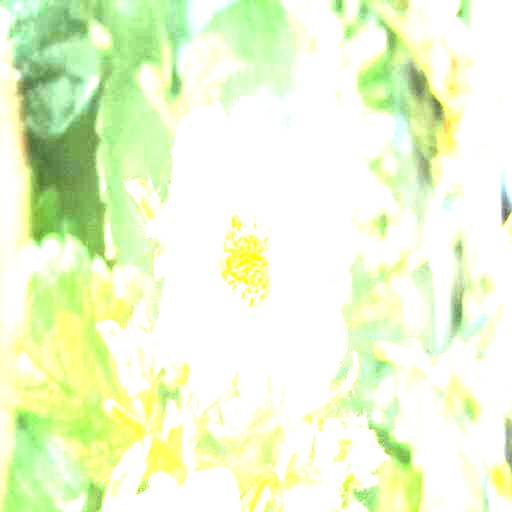Blossom Blight: (205, 201, 295, 323)
